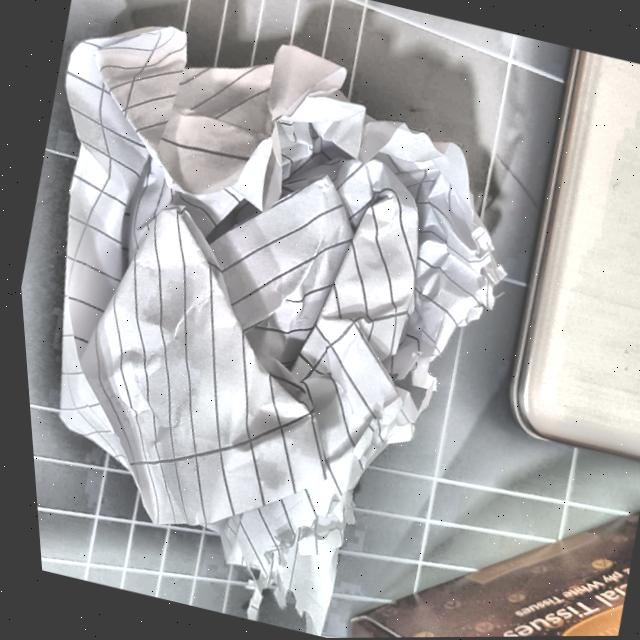paper: (0, 0, 551, 640)
